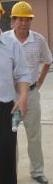boots: (0, 169, 6, 181)
hard-hat: (0, 6, 26, 40)
